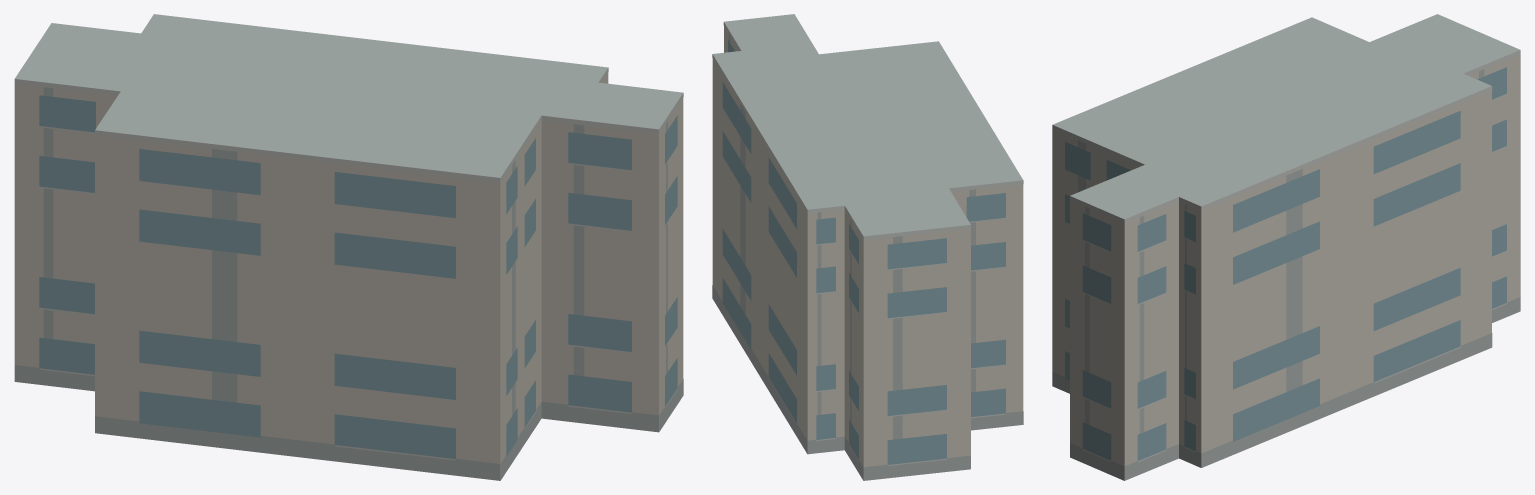
The model's file is residential-5f3f8bf8-b8d8-4595-a6b4-4aaca56fc4dc.glb.
The picture shows the model from 3 angles, left to right: view 1: azimuth 30°, elevation 25°; view 2: azimuth 150°, elevation 25°; view 3: azimuth 270°, elevation 25°; orthographic projection. The views are drawn at different scales.
Parts seen in each view (by area): view 1: residential-5f3f8bf8-b8d8-4595-a6b4-4aaca56fc4dc.tmp; view 2: residential-5f3f8bf8-b8d8-4595-a6b4-4aaca56fc4dc.tmp; view 3: residential-5f3f8bf8-b8d8-4595-a6b4-4aaca56fc4dc.tmp.
Part boxes in pixels (x1=…): residential-5f3f8bf8-b8d8-4595-a6b4-4aaca56fc4dc.tmp: x1=14, y1=14, x2=683, y2=480; residential-5f3f8bf8-b8d8-4595-a6b4-4aaca56fc4dc.tmp: x1=712, y1=14, x2=1023, y2=480; residential-5f3f8bf8-b8d8-4595-a6b4-4aaca56fc4dc.tmp: x1=1052, y1=14, x2=1520, y2=480.
Size of the model in its own units: 25.69 by 15.25 by 24.74.
